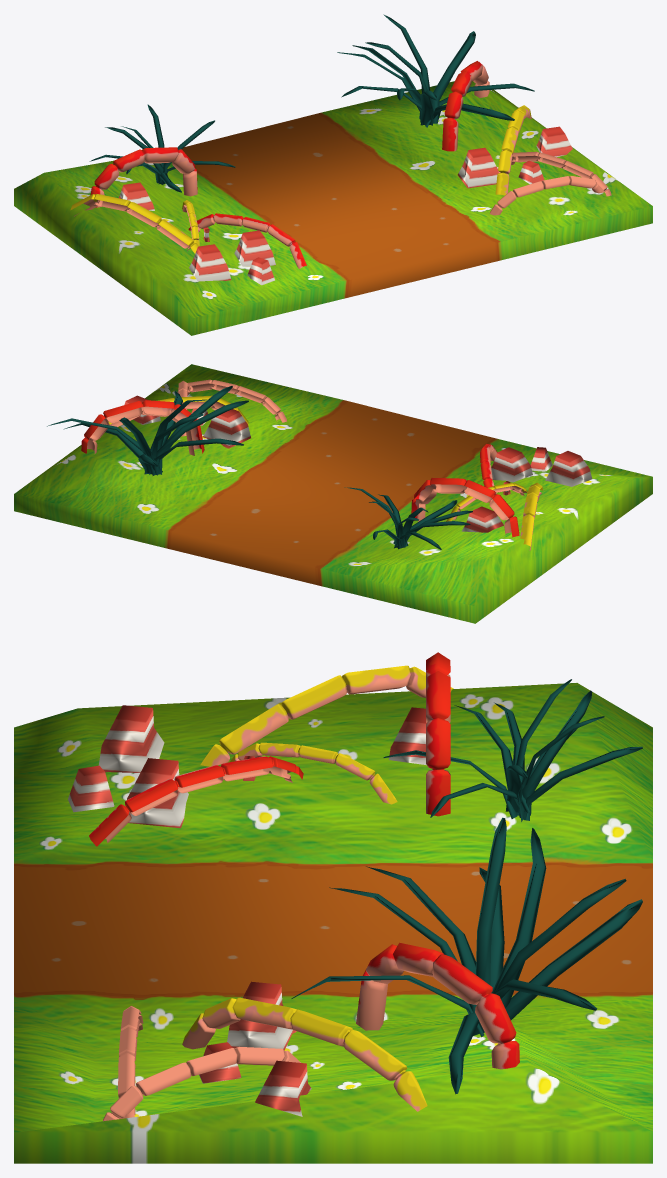
Rendered from D_block_Vide_05.FBX.
3 views of the same model, one above another, from view 1: azimuth 30°, elevation 25°; view 2: azimuth 150°, elevation 25°; view 3: azimuth 270°, elevation 25° (orthographic). The views are drawn at different scales.
Parts seen in each view (by area): view 1: Biome_Vide_05; view 2: Biome_Vide_05; view 3: Biome_Vide_05.
Boxes of the visible parts, bbox=[...] form: Biome_Vide_05: bbox=[14, 14, 652, 335]; Biome_Vide_05: bbox=[14, 364, 652, 623]; Biome_Vide_05: bbox=[14, 652, 652, 1163].
Size of the model in its own units: 9.09 by 2.28 by 6.
2 materials, 2 textured.
